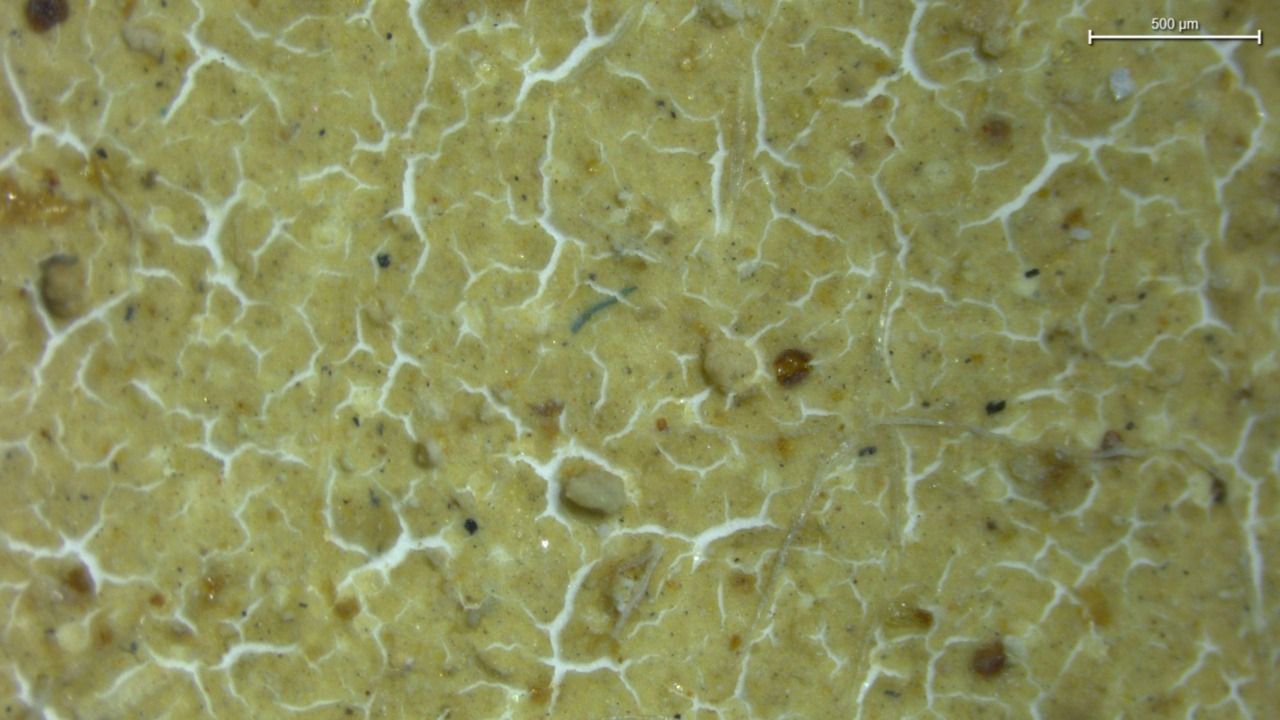microplastic_fragment: (707, 330, 750, 392), (567, 470, 625, 514)
